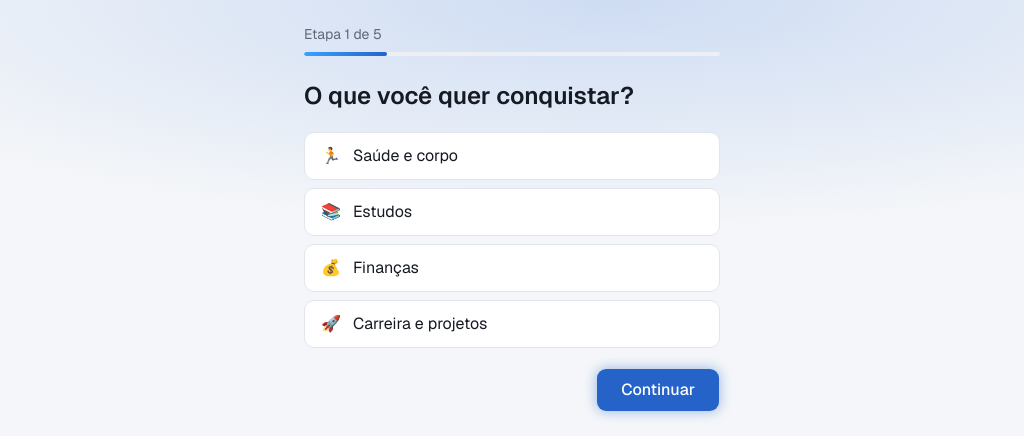
Scenario: OnboardingQuiz › branches the foco options on the chosen area
The image size is (1024, 436).
Click the radio button labelled "Finanças": (386, 268) x1=304 y1=244 x2=720 y2=292
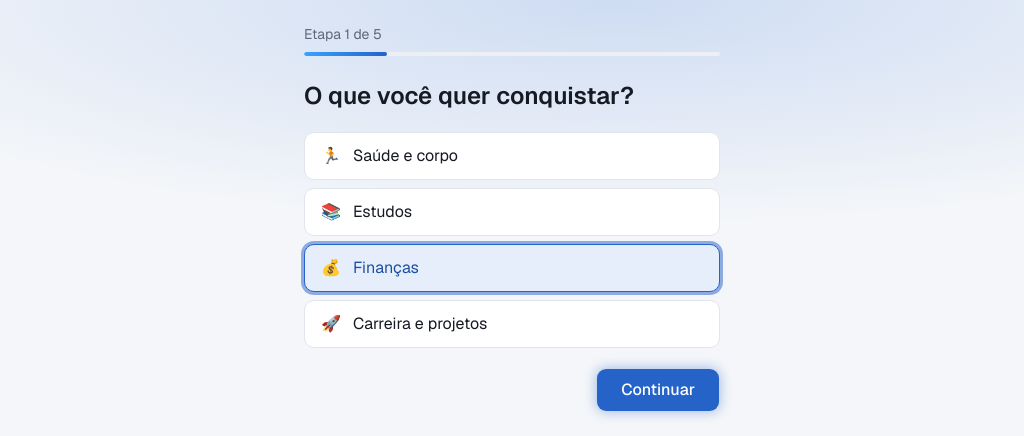
Click the button "Continuar": (658, 390) x1=596 y1=368 x2=720 y2=412
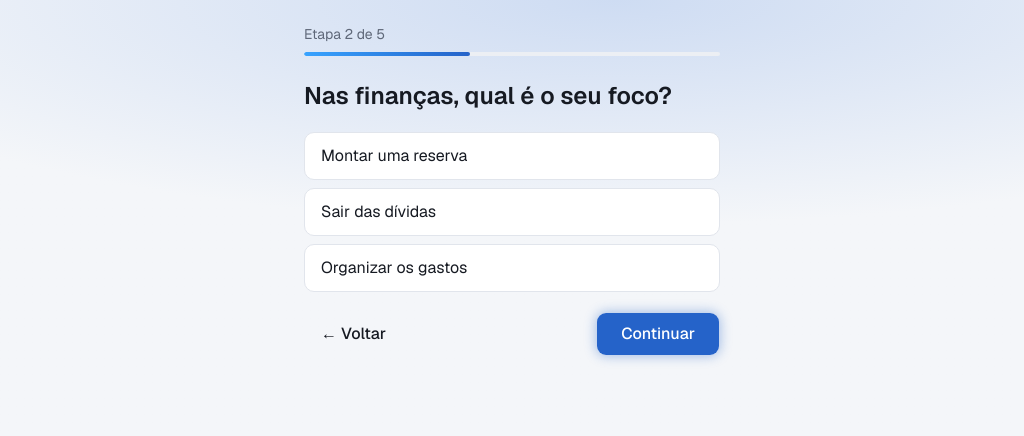
expect the heading "Nas finanças, qual é o seu foco?" is shown: met, box x1=304 y1=80 x2=720 y2=112
expect the radio buttons read "Montar uma reserva", "Sair das dívidas", "Organizar os gastos", in this order: met, box x1=304 y1=132 x2=720 y2=180; x1=304 y1=188 x2=720 y2=236; x1=304 y1=244 x2=720 y2=292
